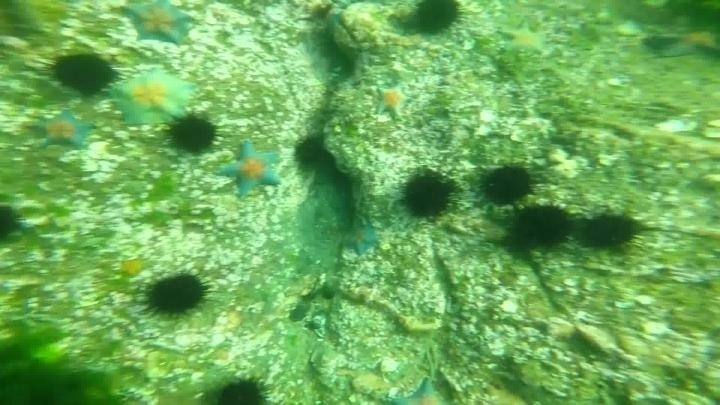echinus: (502, 201, 575, 255), (140, 270, 212, 320), (46, 49, 119, 98), (398, 168, 459, 222), (577, 209, 645, 255), (475, 161, 539, 208), (164, 110, 221, 156), (408, 1, 465, 38), (207, 374, 272, 404), (291, 130, 330, 175), (1, 202, 24, 244)
starfish: (106, 67, 198, 129), (217, 139, 284, 199), (118, 1, 196, 48), (27, 108, 96, 152), (655, 25, 720, 62), (499, 21, 550, 58), (391, 374, 452, 402), (339, 219, 382, 257), (372, 81, 413, 120)
